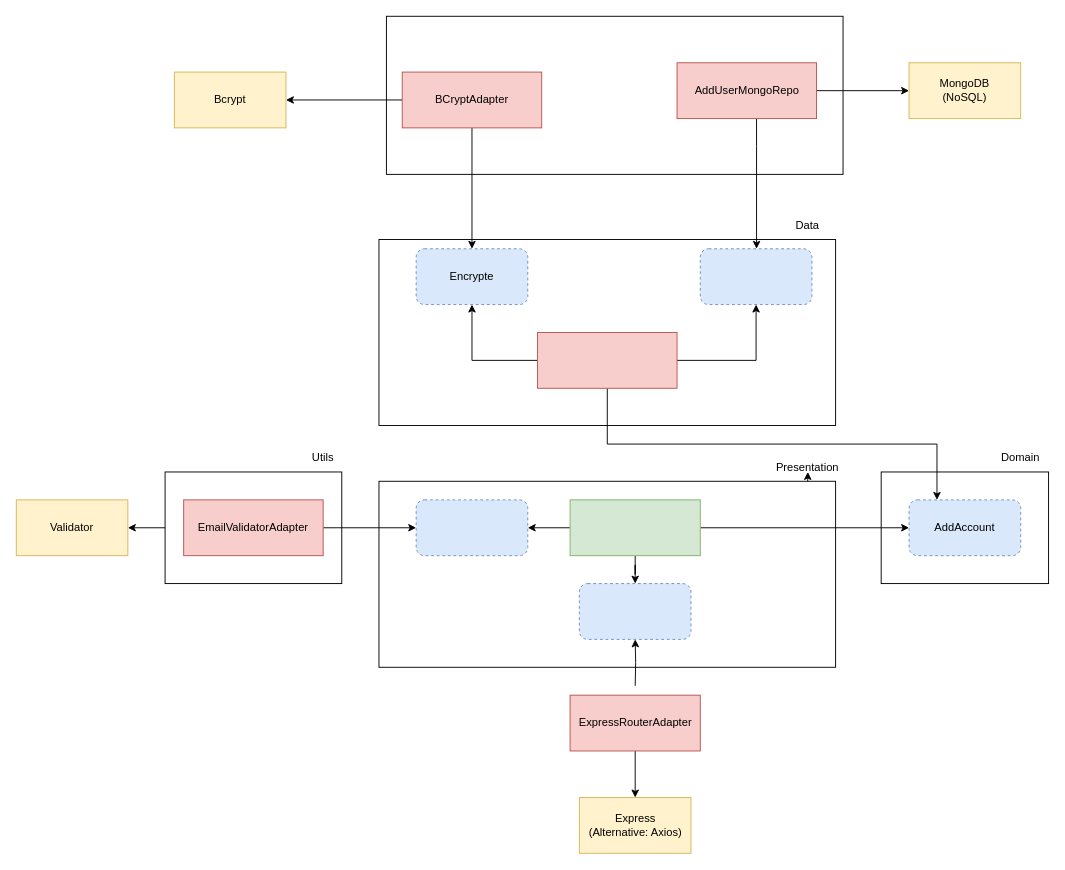
This 1065x870 diagram has some shape labels left out. Each missing label, with the centre of its shape:
AddUserRepo: pixel 755 276
Controler: pixel 634 611
DbAccount: pixel 607 360
EmailValidator: pixel 471 527
SingUpController (Main Layer): pixel 634 527
